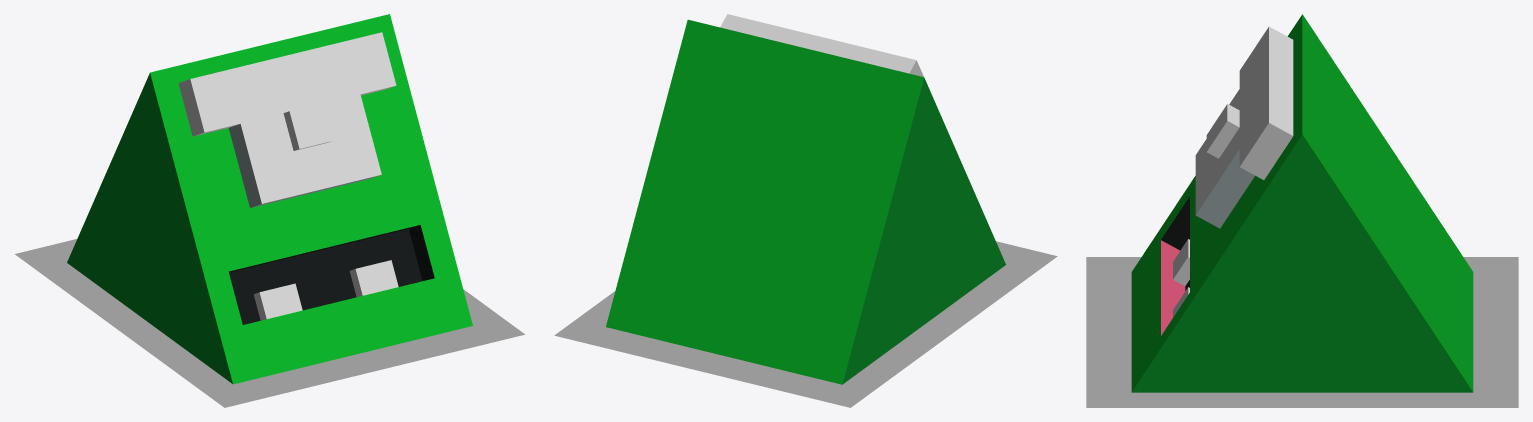
File: EN_MobileBit_Green.fbx
3 views of the same model, side by side, from view 1: azimuth 30°, elevation 25°; view 2: azimuth 150°, elevation 25°; view 3: azimuth 270°, elevation 25° (orthographic). The views are drawn at different scales.
Parts seen in each view (by area): view 1: Body, Mouth, Shadow, Eyebrow, Eye, Pupil; view 2: Body, Shadow, Eyebrow; view 3: Body, Shadow, Eyebrow, Mouth, Eye, Pupil.
Boxes of the visible parts, x1,y1,x2,y2 form: Body: (67, 14, 472, 384); Mouth: (243, 260, 448, 378); Shadow: (15, 239, 524, 407); Eyebrow: (178, 32, 396, 136); Eye: (228, 94, 381, 207); Pupil: (283, 103, 333, 150); Body: (606, 19, 1005, 384); Shadow: (554, 241, 1057, 407); Eyebrow: (720, 14, 923, 76); Body: (1131, 14, 1473, 392); Shadow: (1086, 257, 1518, 407); Eyebrow: (1239, 26, 1293, 179); Mouth: (1131, 239, 1189, 379); Eye: (1195, 89, 1254, 228); Pupil: (1206, 104, 1239, 158).
Size of the model in its own units: 62.68 by 50 by 75.87.
